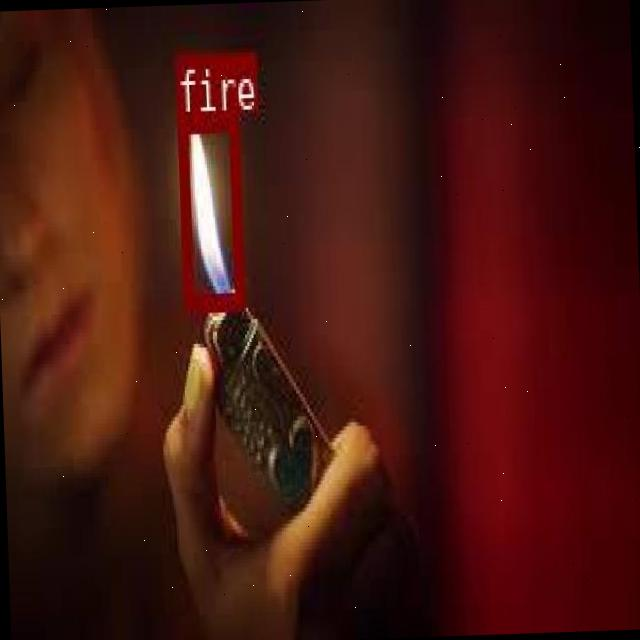fire: (176, 112, 242, 309)
